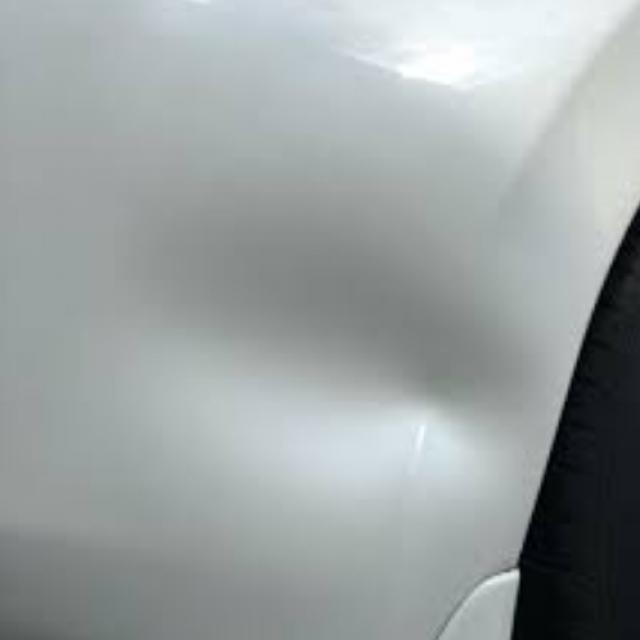dents: (376, 332, 536, 486)
